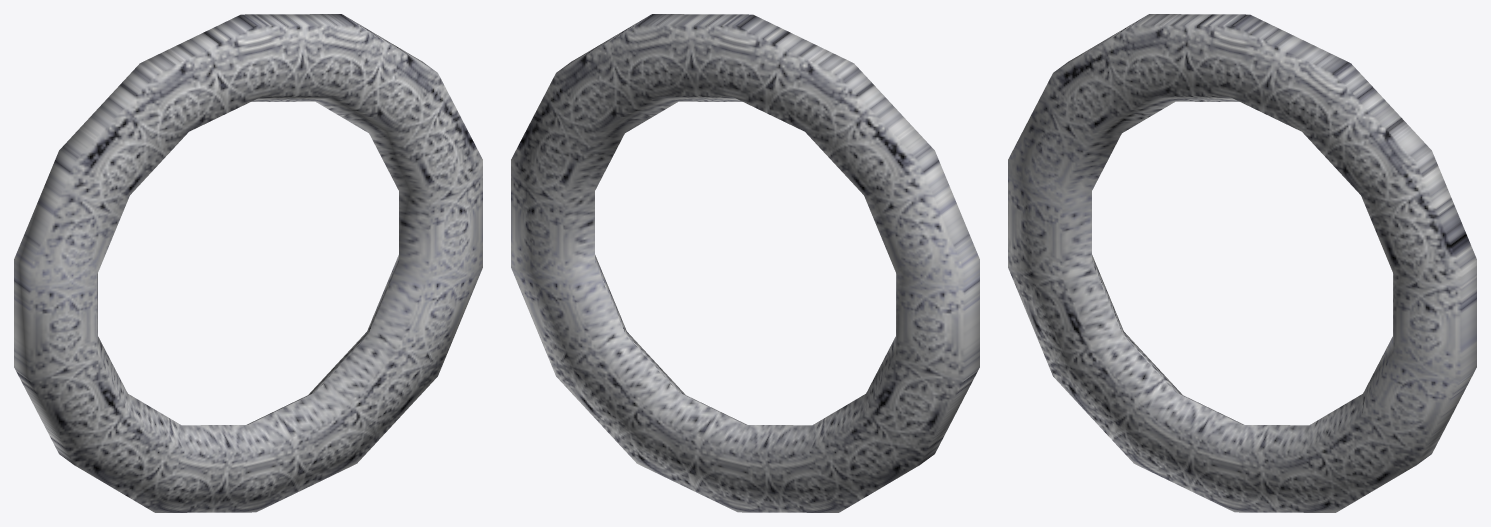
The picture shows the model from 3 angles, left to right: view 1: azimuth 30°, elevation 25°; view 2: azimuth 150°, elevation 25°; view 3: azimuth 330°, elevation 25°; orthographic projection.
Parts seen in each view (by area): view 1: Object_2; view 2: Object_2; view 3: Object_2.
Boxes of the visible parts, x1,y1,x2,y2 form: Object_2: [14, 14, 482, 512]; Object_2: [511, 14, 979, 512]; Object_2: [1008, 14, 1476, 512].
Size of the model in its own units: 18.55 by 19.02 by 2.02.
1 material, 1 textured.
